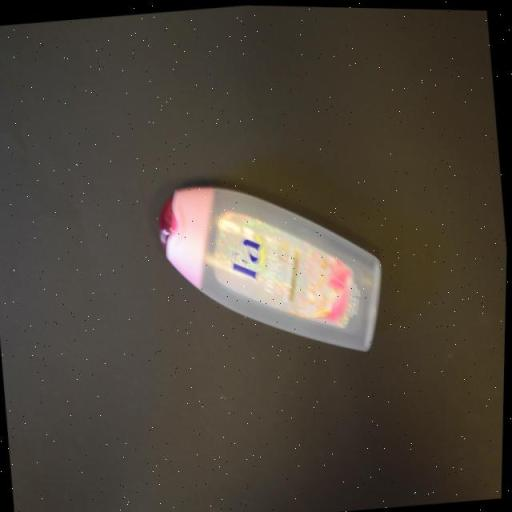plastic: (154, 164, 390, 374)
